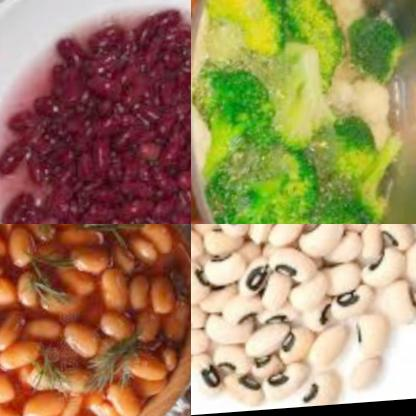beans: (191, 224, 416, 416), (0, 0, 191, 224), (0, 224, 191, 416)
broccoli: (206, 0, 410, 224)
cayliflower: (331, 71, 396, 154), (331, 0, 368, 32)
